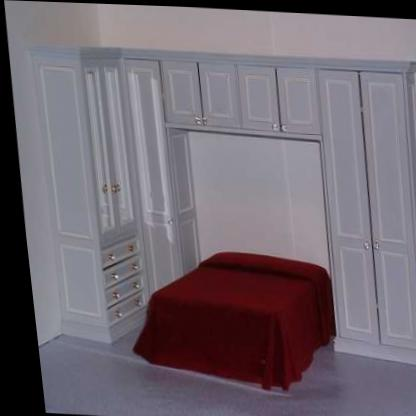Bed: (124, 250, 327, 391)
Closet: (18, 37, 154, 347), (303, 51, 416, 365)
